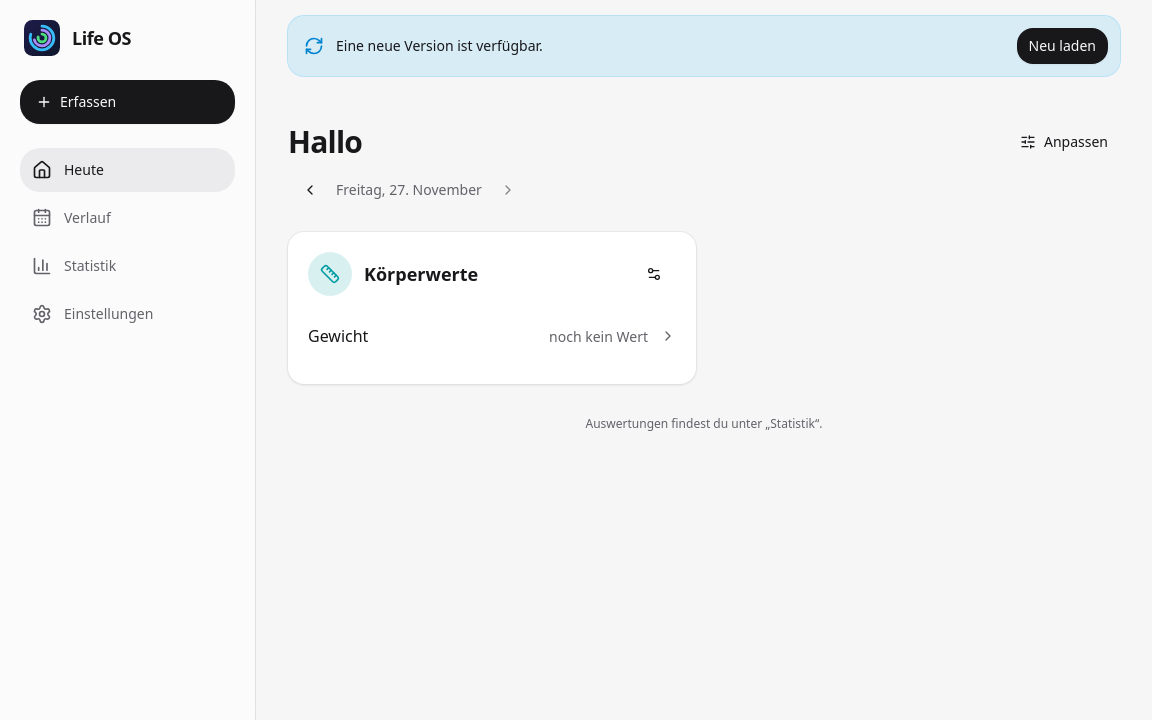
Scenario: measurements › shows the latest value with unit and records new ones
This screenshot has width=1152, height=720.
Check: the text "noch kein Wert" is shown, box [549,327,648,346]
Click the button with aria-label "Gewicht öffnen" at [338, 336], box [300,308,684,364]
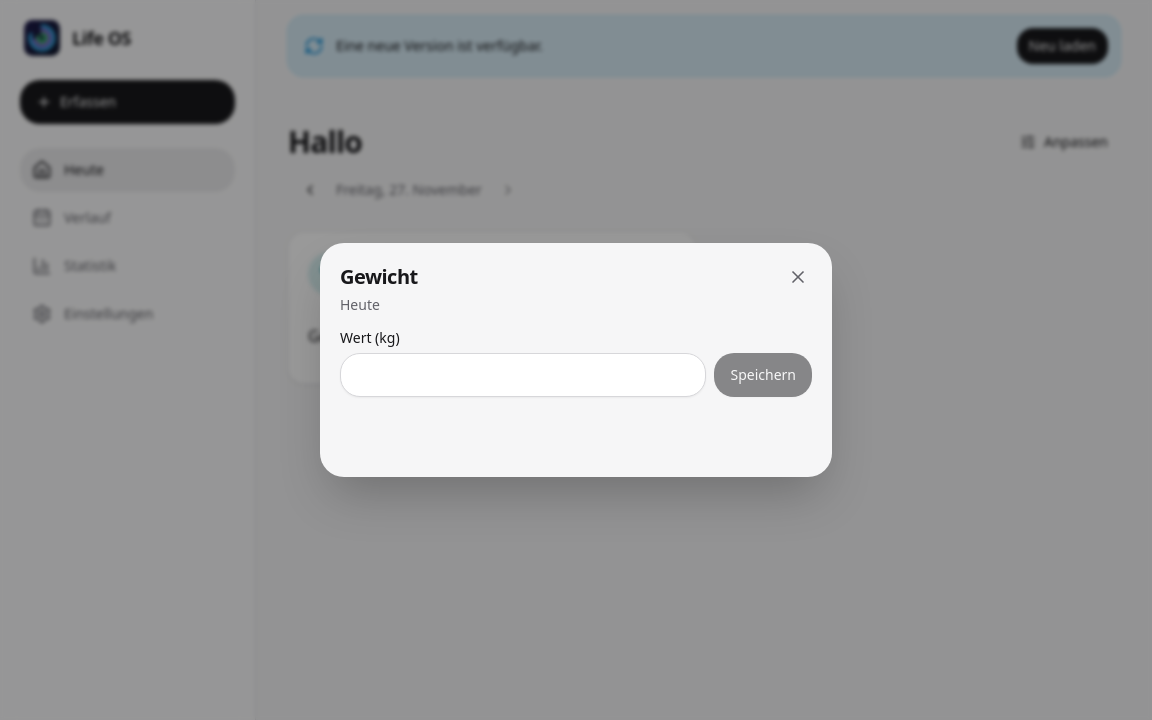
Type "78,4" into the field labelled "Wert (kg)" at [523, 375], box [340,353,706,397]
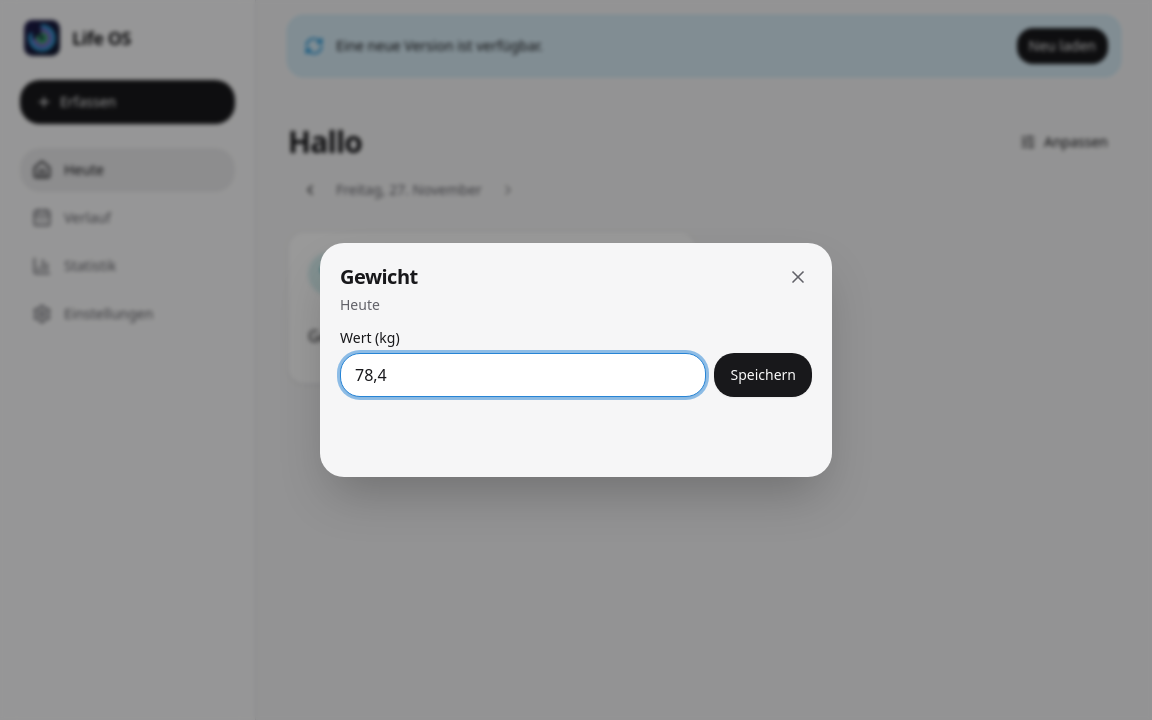
Click the button "Speichern" at [763, 375], box [714,353,812,397]
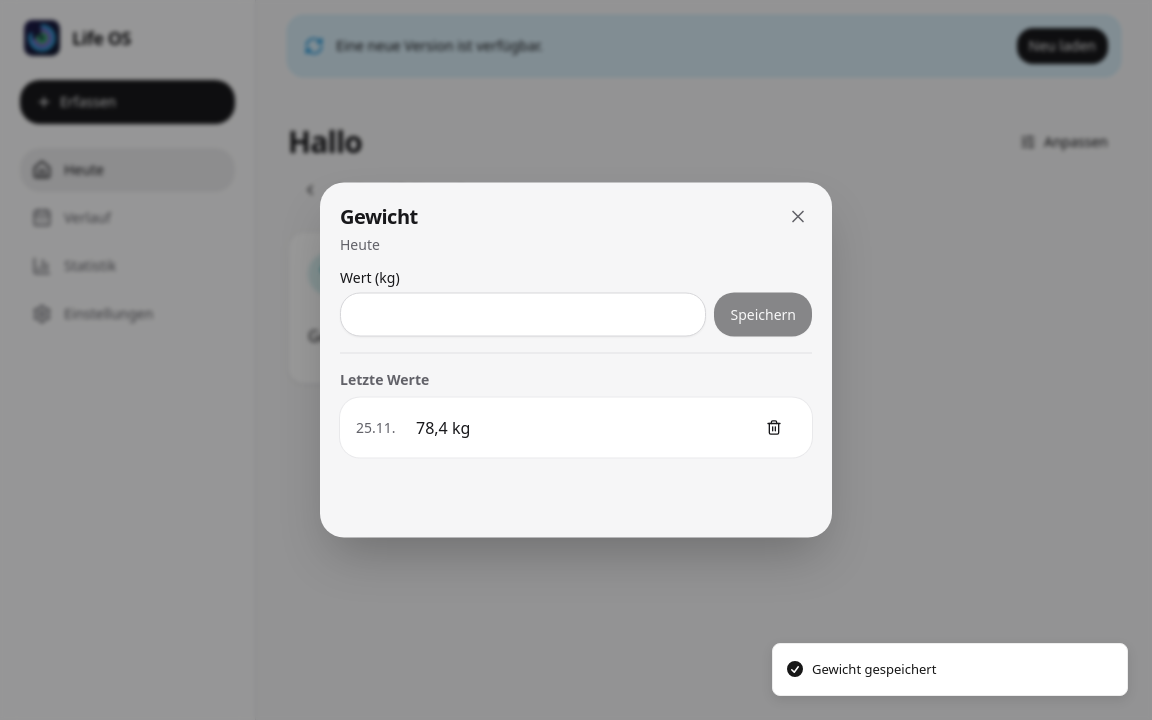
Check: the text "78,4 kg" is shown, box [416,416,470,438]
